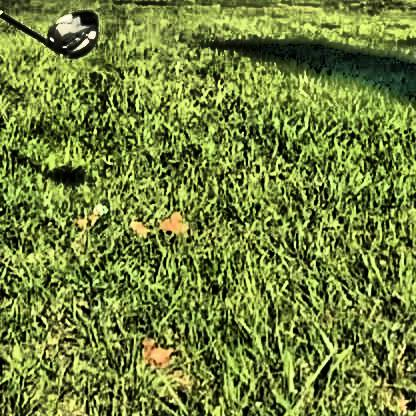golfball: (90, 200, 107, 214)
